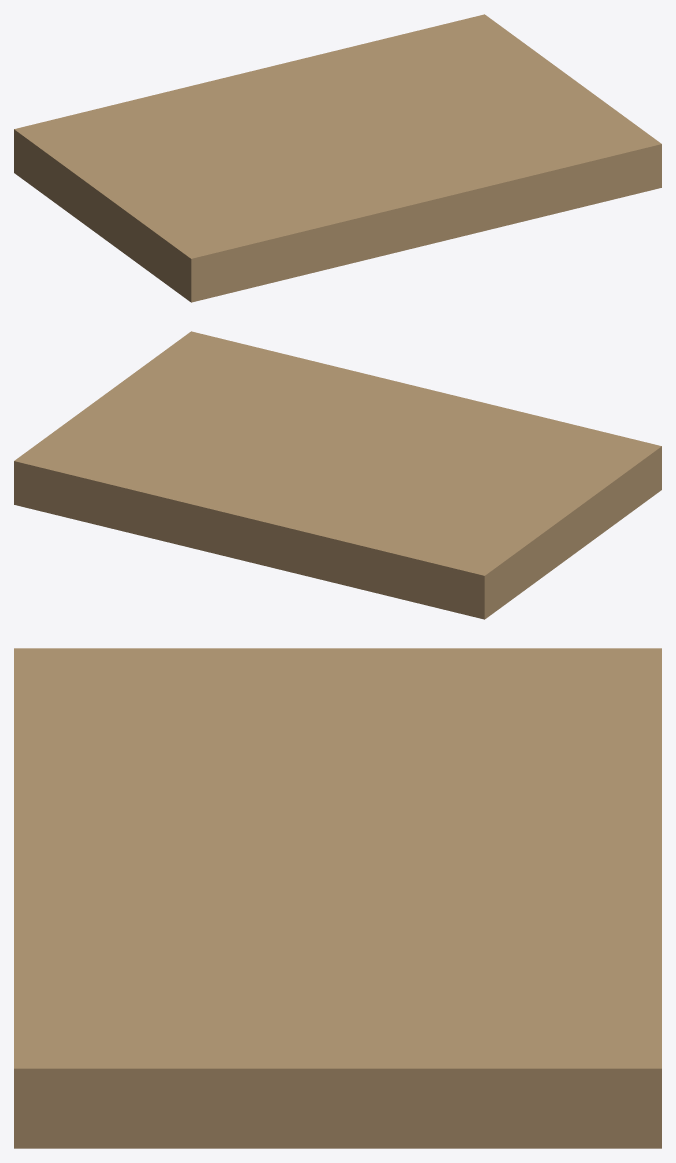
Rendered from BoxHollow_top.fbx.
3 renders of one model, top to bottom at view 1: azimuth 30°, elevation 25°; view 2: azimuth 150°, elevation 25°; view 3: azimuth 270°, elevation 25°, orthographic. The views are drawn at different scales.
Visible parts, largest first — view 1: polySurface1; view 2: polySurface1; view 3: polySurface1.
Part boxes in pixels (x1,y1,x2,y2): polySurface1: [14, 14, 661, 302]; polySurface1: [14, 331, 661, 619]; polySurface1: [14, 648, 661, 1148].
Bounding box in the file's own units: 10.11 × 0.8978 × 6.59.
